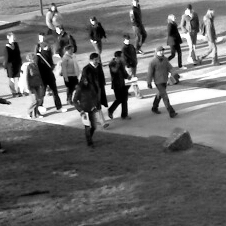person: (147, 46, 180, 119), (36, 40, 67, 113), (73, 74, 101, 149), (82, 53, 109, 129), (107, 50, 131, 120), (121, 34, 144, 99), (58, 44, 80, 106), (23, 51, 43, 118), (4, 32, 23, 97), (180, 4, 200, 65), (166, 13, 187, 70), (200, 8, 221, 65), (129, 1, 147, 54), (54, 24, 78, 58), (88, 16, 107, 54), (46, 3, 62, 35), (34, 32, 54, 57)
